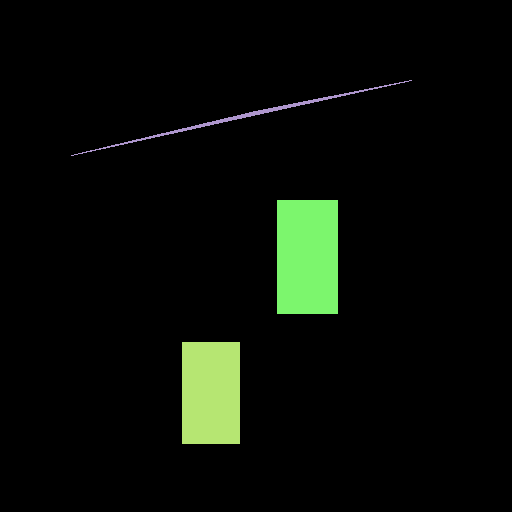rectangle: (277, 200, 337, 313), (182, 342, 239, 443)
